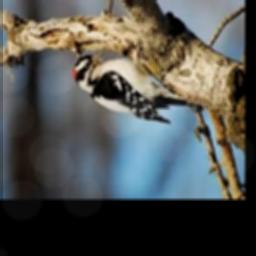Woodpecker: (73, 48, 195, 123)
